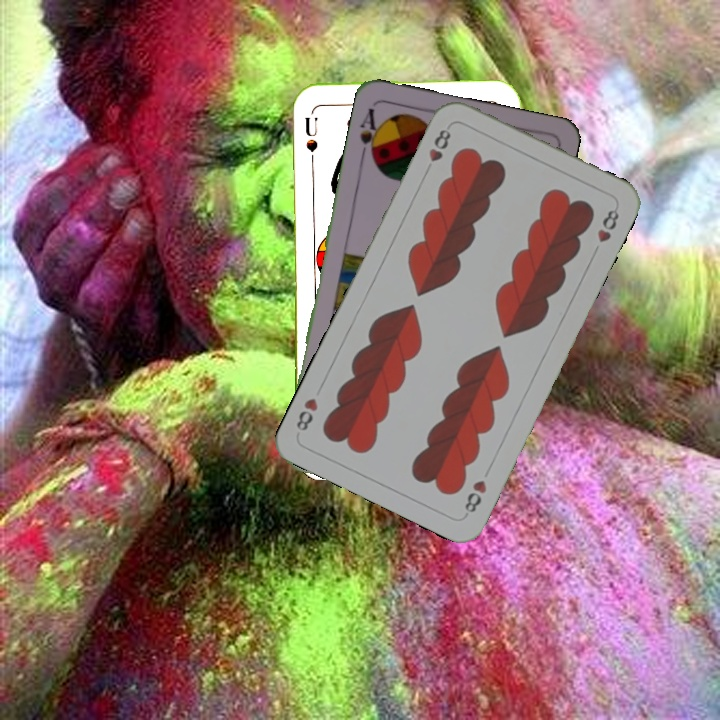H8: (421, 125, 454, 177), (460, 475, 490, 519)
SA: (356, 104, 385, 164)
SU: (301, 112, 320, 154)
